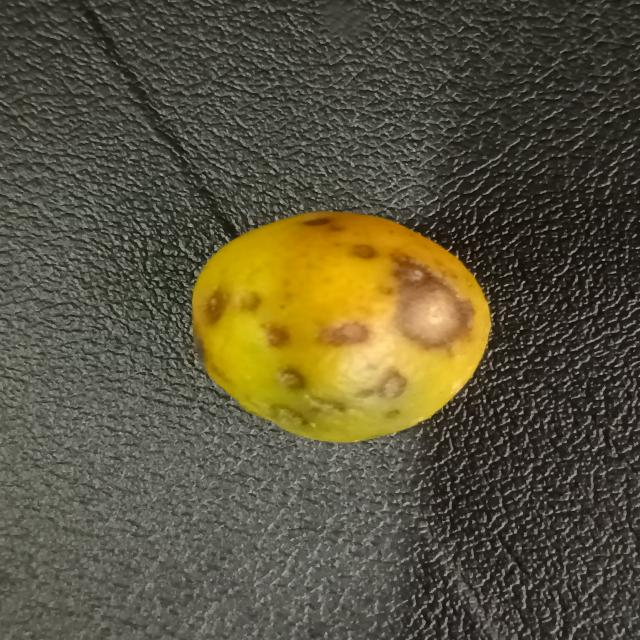black spot: (189, 209, 492, 439)
